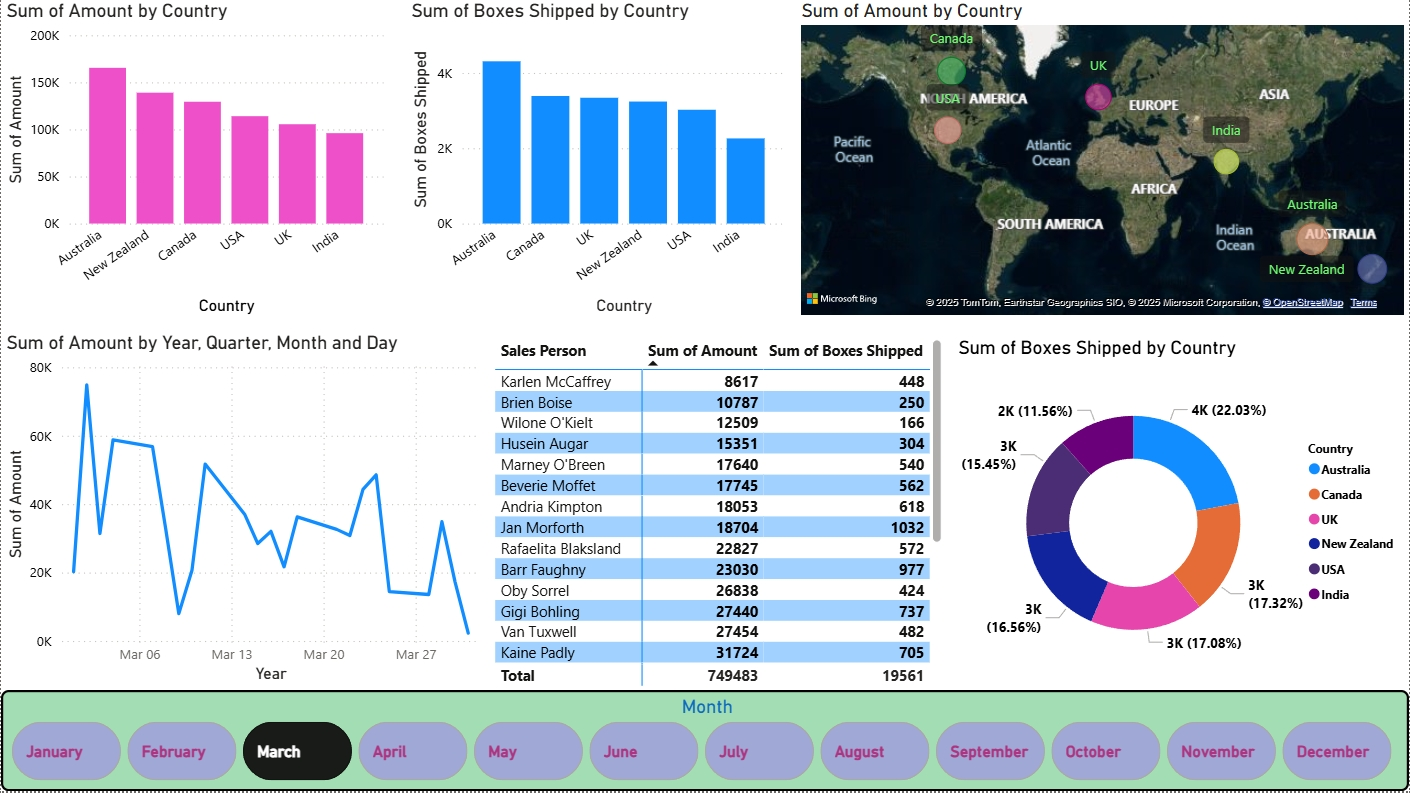

The dashboard page shown, as its layout file describes it:
{"tool":"powerbi","page":{"name":"Page 1","canvas":[1280,720],"ordinal":0},"visuals":[{"type":"columnChart","fields":{"Category":["data.Country"],"Y":["data.Amount"]},"box":[0,0,353.1,292.4],"z":0},{"type":"clusteredColumnChart","fields":{"Category":["data.Country"],"Y":["data.Boxes Shipped"]},"box":[367.9,0,350.4,292.4],"z":1000},{"type":"map","fields":{"Category":["data.Country"],"Size":["data.Amount"]},"box":[722.3,0,557.9,292.4],"z":2000},{"type":"lineChart","fields":{"Y":["data.Amount"],"Category":["data.Date.Variation.Date Hierarchy.Year","data.Date.Variation.Date Hierarchy.Quarter","data.Date.Variation.Date Hierarchy.Month","data.Date.Variation.Date Hierarchy.Day"]},"box":[0,301.9,448.8,324.8],"z":3000},{"type":"textbox","box":[543.1,301.9,727.7,90.3],"z":4000},{"type":"donutChart","fields":{"Y":["data.Boxes Shipped"],"Category":["data.Country"]},"box":[865.2,306.3,414.8,320.7],"z":5000},{"type":"advancedSlicerVisual","fields":{"Values":["data.Date.Variation.Date Hierarchy.Month"]},"box":[0,626.7,1280.3,93],"z":6000},{"type":"pivotTable","fields":{"Values":["data.Amount","data.Boxes Shipped"],"Rows":["data.Sales Person"]},"box":[447.4,305.9,409.7,320.7],"z":7000}]}

Visuals, with their boxes in screenshot pixels (x1, y1, x2, y2), scaled from the page's 1280x720 canvas onto the 1410x793 screenshot:
columnChart - data.Country x data.Amount: x1=0, y1=0, x2=389, y2=322
clusteredColumnChart - data.Country x data.Boxes Shipped: x1=405, y1=0, x2=791, y2=322
map - data.Country x data.Amount: x1=796, y1=0, x2=1409, y2=322
lineChart - data.Amount x data.Date.Variation.Date Hierarchy.Year: x1=0, y1=333, x2=494, y2=690
textbox: x1=598, y1=333, x2=1400, y2=432
donutChart - data.Boxes Shipped x data.Country: x1=953, y1=337, x2=1409, y2=691
advancedSlicerVisual - data.Date.Variation.Date Hierarchy.Month: x1=0, y1=690, x2=1409, y2=792
pivotTable - data.Amount x data.Boxes Shipped: x1=493, y1=337, x2=944, y2=690
